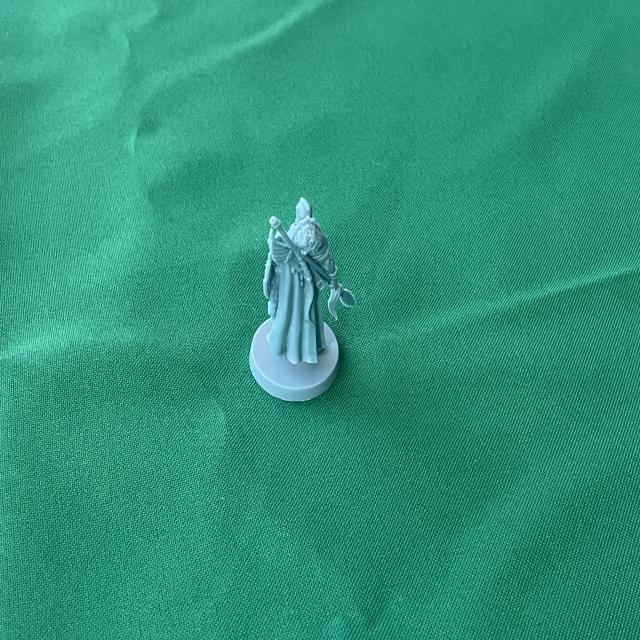isis_follower: (248, 193, 356, 410)
